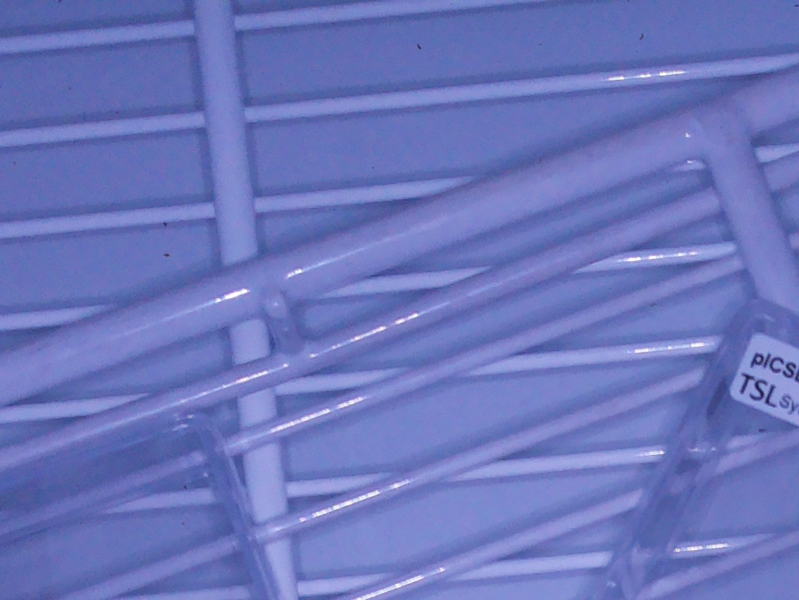plate: (594, 297, 799, 600), (1, 412, 279, 600)
